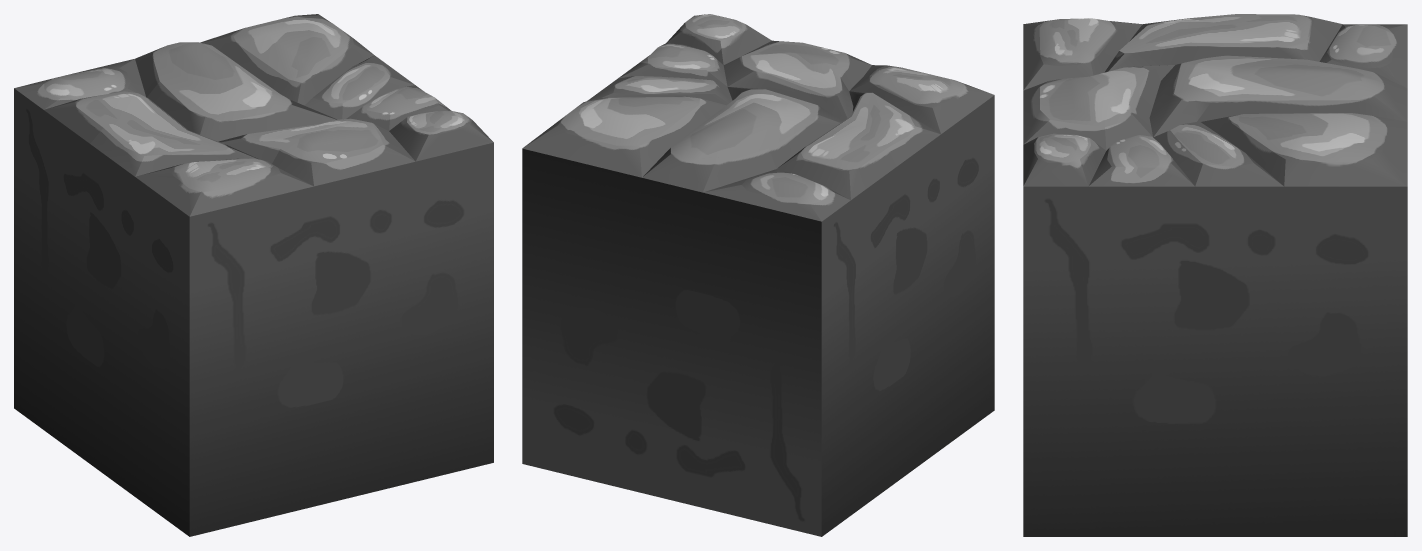
The model's file is stoneyFloor_Variant3.fbx.
3 views of the same model, side by side, from view 1: azimuth 30°, elevation 25°; view 2: azimuth 150°, elevation 25°; view 3: azimuth 270°, elevation 25° (orthographic). The views are drawn at different scales.
Visible parts, largest first — view 1: dungeonFloorTileV3; view 2: dungeonFloorTileV3; view 3: dungeonFloorTileV3.
Part boxes in pixels (x1,y1,x2,y2): dungeonFloorTileV3: (14, 14, 493, 536); dungeonFloorTileV3: (522, 14, 994, 536); dungeonFloorTileV3: (1023, 14, 1407, 536).
Bounding box in the file's own units: 1 × 1.1 × 1.
Materials: 1 (1 with a texture image).
